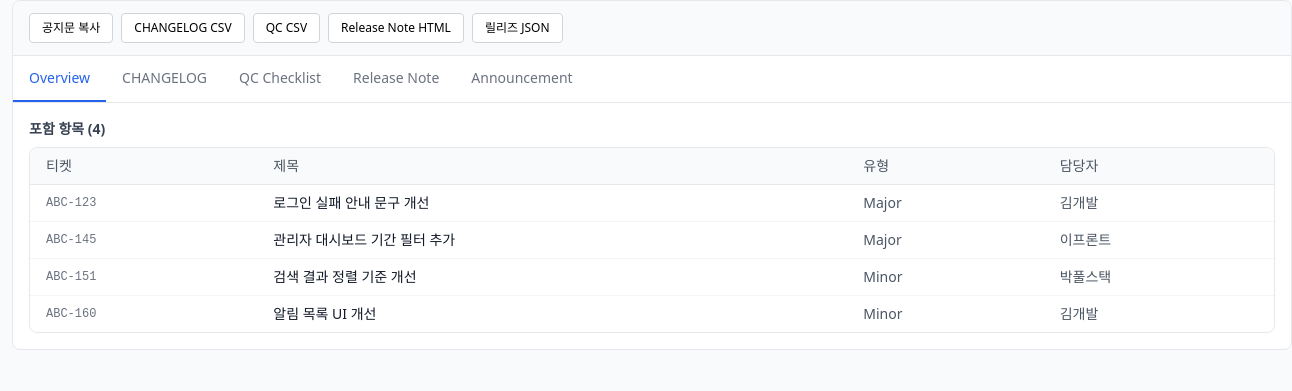
Scenario: ReleaseDocumentTabs › copies announcement text to clipboard
Step 1. Click the button "공지문 복사" → [71, 28], box x1=29 y1=13 x2=113 y2=43
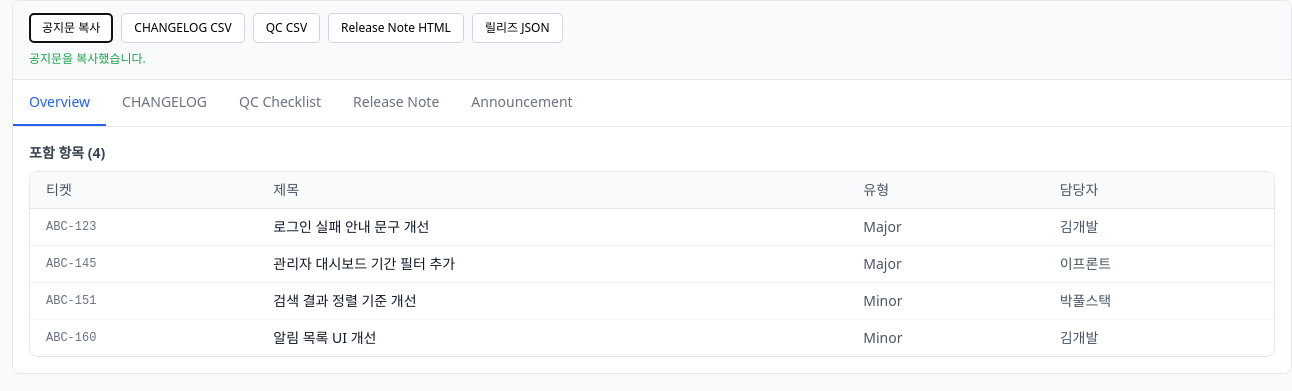
Result: the text "공지문을 복사했습니다." is shown at x1=29 y1=50 x2=146 y2=67
